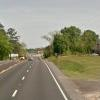Tree: (52, 23, 96, 57)
